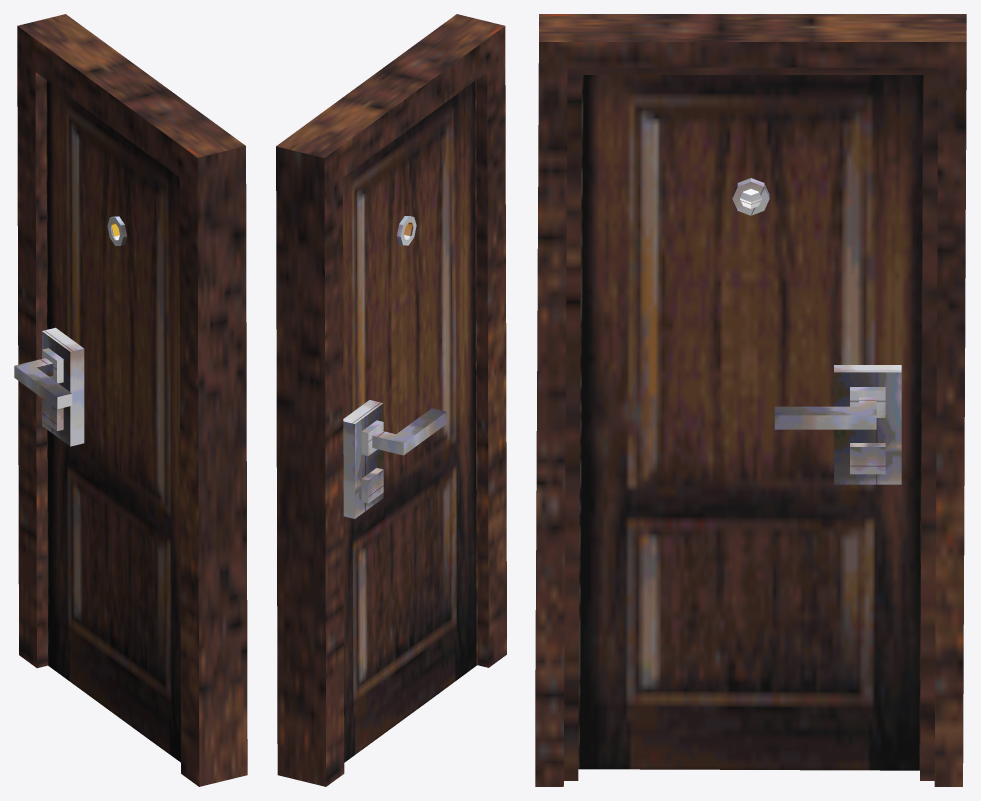
Rendered from obj_DoorHotelRoom.fbx.
3 renders of one model, left to right at view 1: azimuth 30°, elevation 25°; view 2: azimuth 150°, elevation 25°; view 3: azimuth 270°, elevation 25°, orthographic. The views are drawn at different scales.
Visible parts, largest first — view 1: Hotel Door.002; view 2: Hotel Door.002; view 3: Hotel Door.002.
Part boxes in pixels (<box>): Hotel Door.002: <box>14,14,247,786</box>; Hotel Door.002: <box>276,14,506,786</box>; Hotel Door.002: <box>535,14,966,786</box>.
Size of the model in its own units: 44.01 by 229 by 120.
